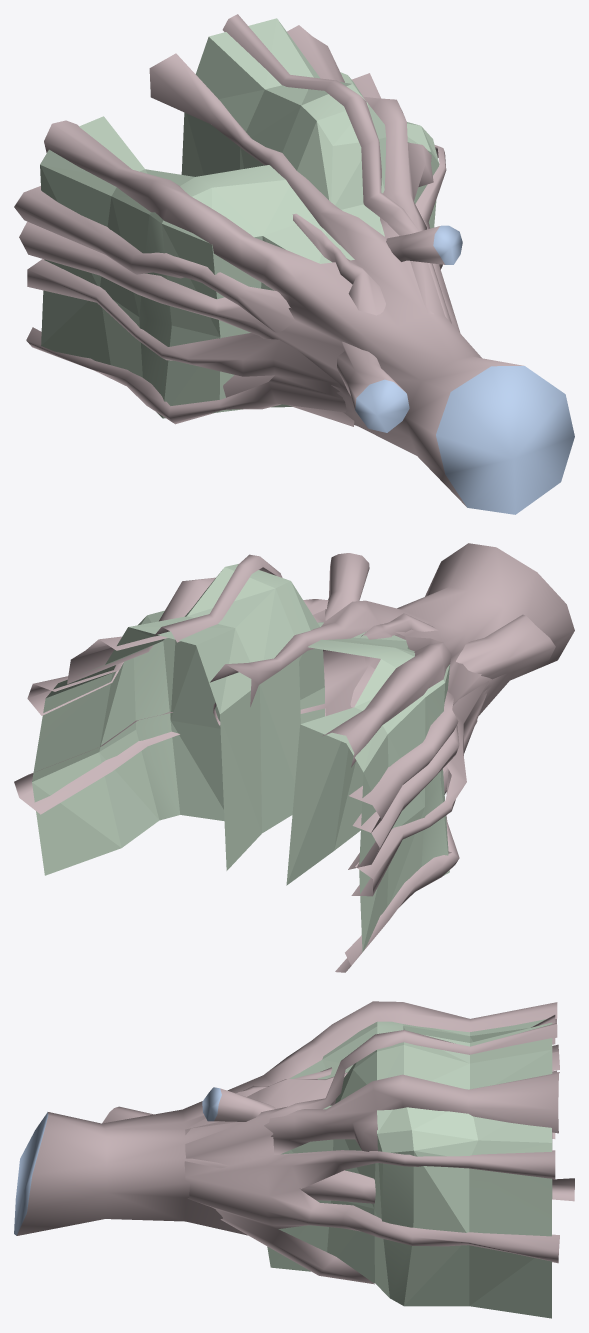
3 renders of one model, top to bottom at view 1: azimuth 30°, elevation 25°; view 2: azimuth 150°, elevation 25°; view 3: azimuth 270°, elevation 25°, orthographic. The views are drawn at different scales.
Visible parts, largest first — view 1: Object12; view 2: Object12; view 3: Object12.
Boxes of the visible parts, x1=… form: Object12: x1=14, y1=14, x2=574, y2=514; Object12: x1=14, y1=543, x2=574, y2=972; Object12: x1=14, y1=1001, x2=574, y2=1318.
Size of the model in its own units: 17692 by 13461 by 26945.
